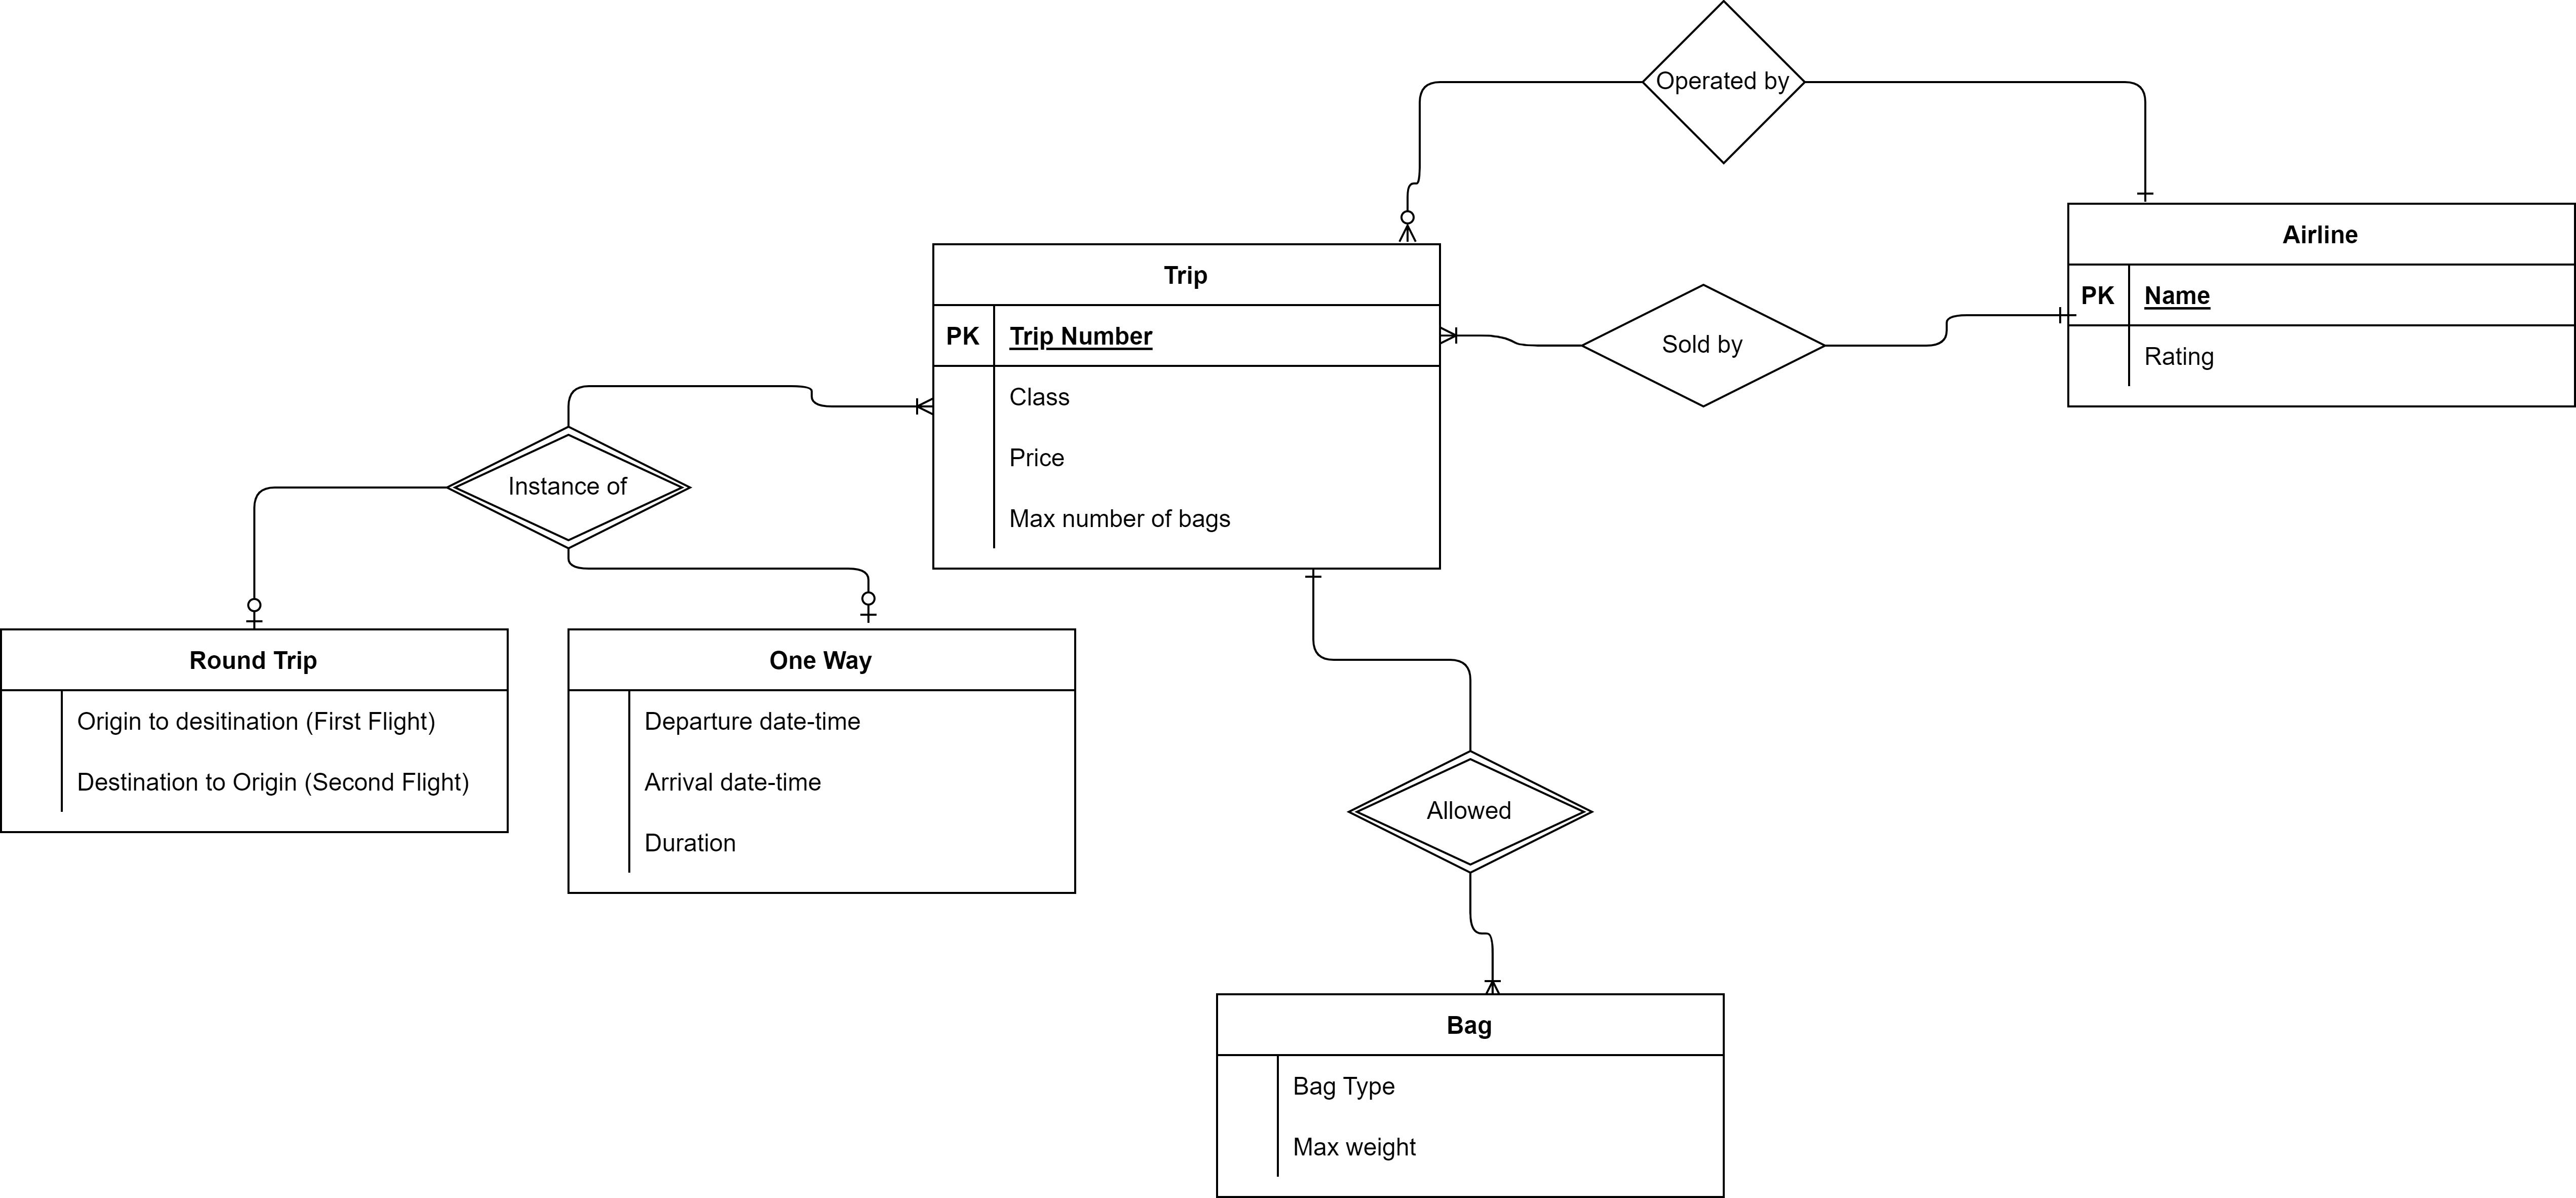entity: (927, 238, 1446, 578), (559, 620, 1081, 899), (2067, 200, 2576, 409), (0, 633, 511, 840), (1214, 994, 1728, 1198)
relationship: (1640, 0, 1814, 159), (1590, 289, 1814, 404)
weakrelationship: (445, 427, 695, 551), (1342, 754, 1595, 874)
